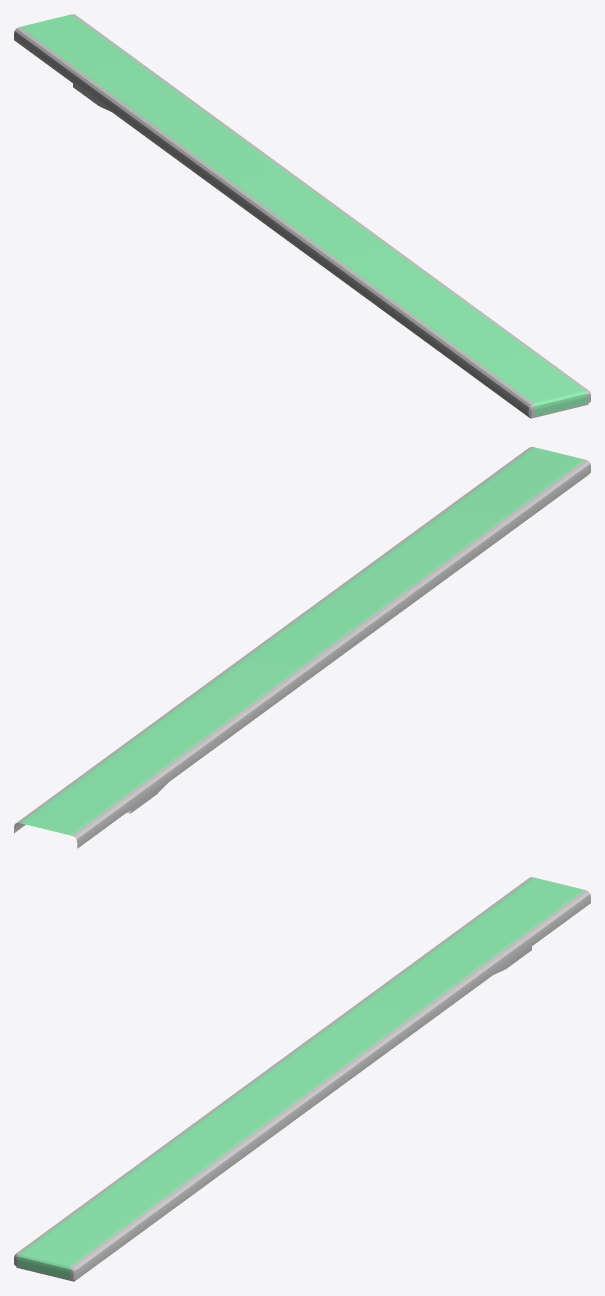
The model's file is FabricBelt.fbx.
3 renders of one model, top to bottom at view 1: azimuth 30°, elevation 25°; view 2: azimuth 150°, elevation 25°; view 3: azimuth 330°, elevation 25°, orthographic.
Parts seen in each view (by area): view 1: FabrickSmall_Belt; view 2: FabrickSmall_Belt; view 3: FabrickSmall_Belt.
Part boxes in pixels (x1=…): FabrickSmall_Belt: x1=14, y1=14, x2=590, y2=418; FabrickSmall_Belt: x1=14, y1=447, x2=590, y2=848; FabrickSmall_Belt: x1=14, y1=877, x2=590, y2=1281.
Size of the model in its own units: 200 by 55.51 by 2824.
